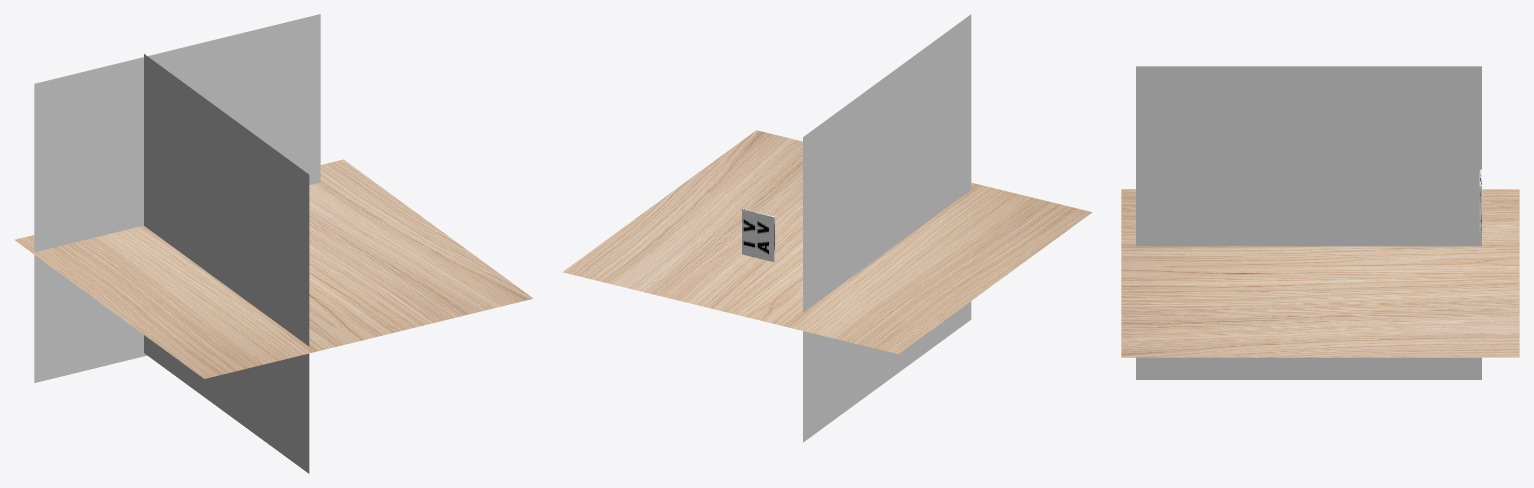
File: ass1.glb
3 renders of one model, left to right at view 1: azimuth 30°, elevation 25°; view 2: azimuth 150°, elevation 25°; view 3: azimuth 270°, elevation 25°, orthographic. The views are drawn at different scales.
Visible parts, largest first — view 1: Plane, Plane.001, Plane.002; view 2: Plane, Plane.002, Cube; view 3: Plane.002, Plane.
Part boxes in pixels (<box>): Plane: <box>14,159,533,378</box>; Plane.001: <box>34,14,320,382</box>; Plane.002: <box>144,54,309,473</box>; Plane: <box>562,130,1092,354</box>; Plane.002: <box>803,14,971,442</box>; Cube: <box>742,208,775,261</box>; Plane.002: <box>1136,66,1481,379</box>; Plane: <box>1121,189,1519,357</box>.
Bounding box in the file's own units: 31.31 × 27.51 × 31.31.
3 materials, 2 textured.
